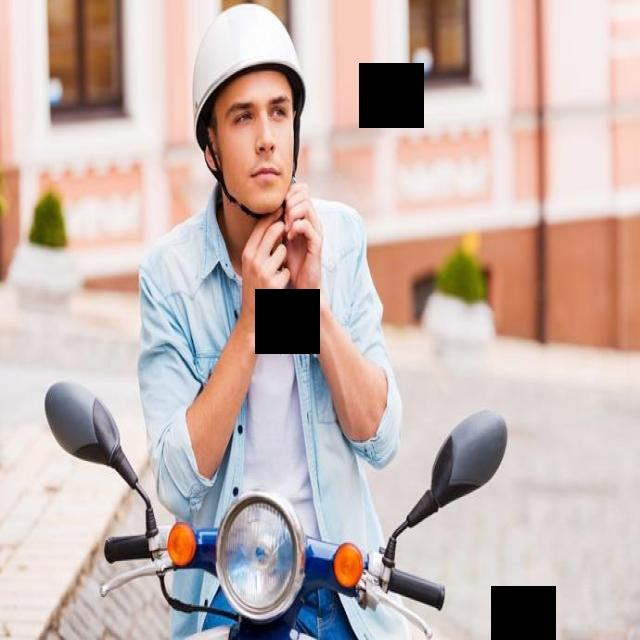Helmet: (191, 2, 309, 216)
